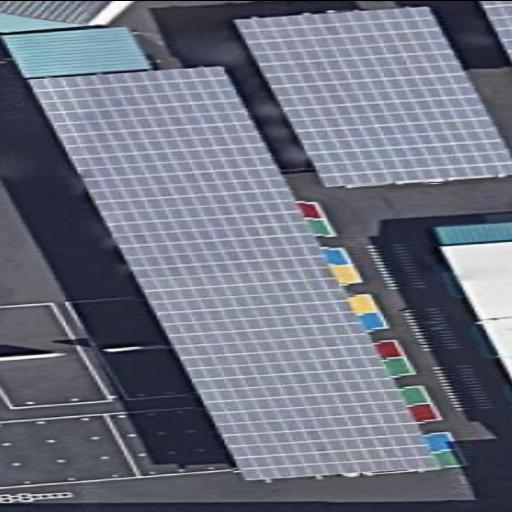Solar-Pannel-Ground: (29, 66, 445, 479)
